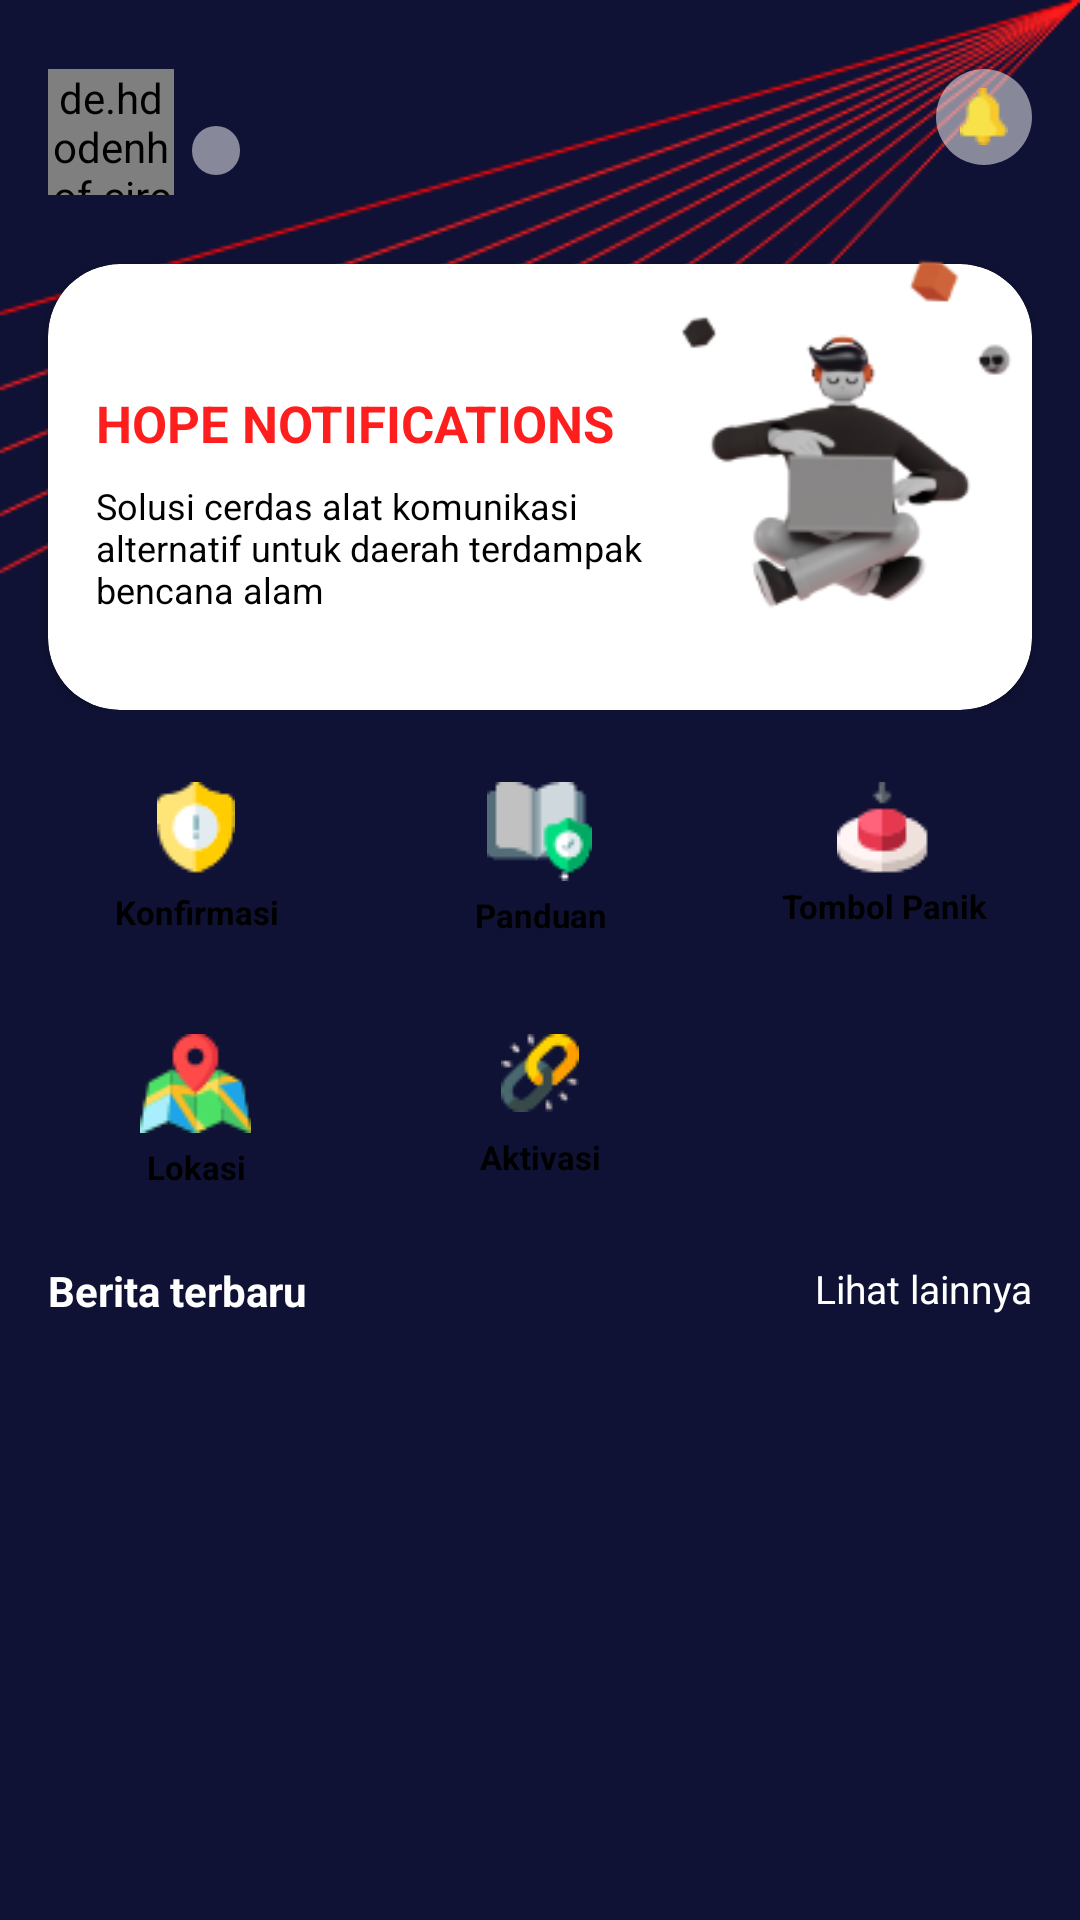

Where icons sit on this 1080*1920 app screen, as bbox(x1, y1, x2, y2):
notif: bbox(960, 88, 1008, 145)
